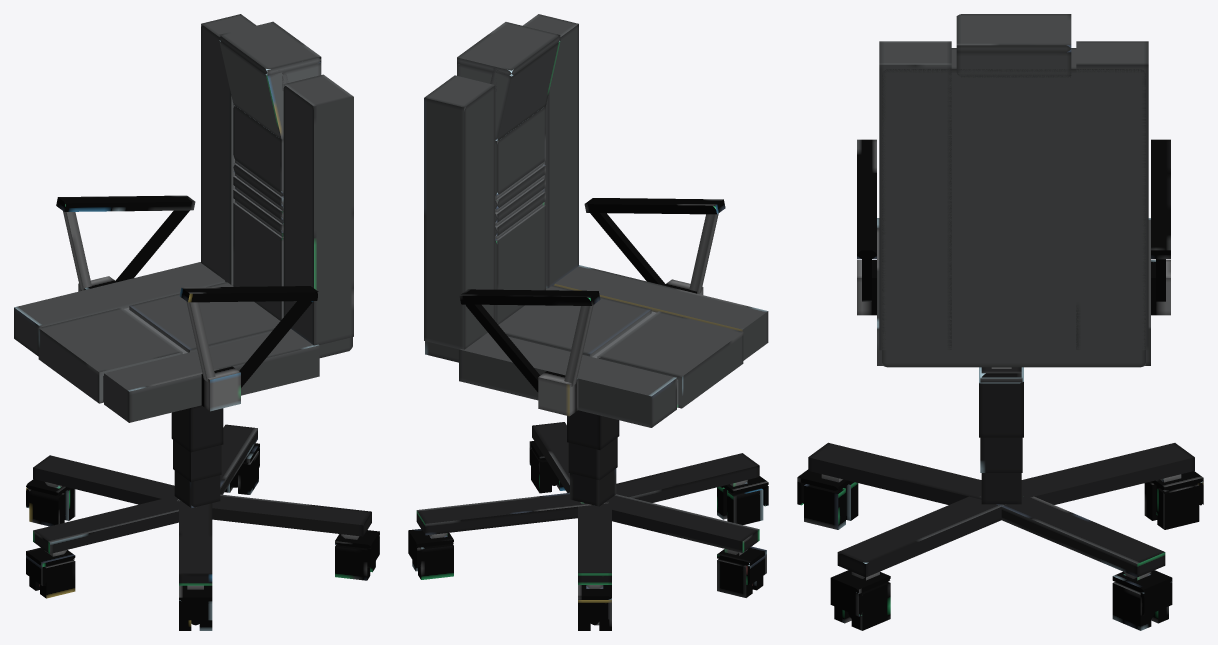
Rendered from stolicka.fbx.
The picture shows the model from 3 angles, left to right: view 1: azimuth 30°, elevation 25°; view 2: azimuth 150°, elevation 25°; view 3: azimuth 270°, elevation 25°; orthographic projection. The views are drawn at different scales.
Parts seen in each view (by area): view 1: cube_59, cube_7, cube_58, cube_4, cube_8, cube_6, cube_23, cube_20, cube_10, cube_22, cube_47, cube_46 (+24 smaller); view 2: cube_58, cube_8, cube_59, cube_4, cube_7, cube_6, cube_53, cube_20, cube_10, cube_21, cube_47, cube_46 (+24 smaller); view 3: cube_5, cube_59, cube_58, cube_53, cube_23, cube_22, cube_21, cube_46, cube_48, cube_43, cube_62, cube_67 (+13 smaller).
Boxes of the visible parts, x1,y1,x2,y2 form: cube_59: (283, 74, 353, 345); cube_7: (104, 329, 319, 422); cube_58: (201, 14, 256, 284); cube_4: (38, 307, 182, 403); cube_8: (14, 262, 225, 356); cube_6: (129, 282, 280, 352); cube_23: (212, 494, 371, 536); cube_20: (33, 499, 178, 553); cube_10: (233, 202, 283, 320); cube_22: (33, 455, 196, 507); cube_47: (219, 40, 288, 139); cube_46: (219, 21, 321, 75); cube_58: (424, 75, 495, 349); cube_8: (459, 333, 676, 427); cube_59: (523, 14, 578, 288); cube_4: (597, 311, 743, 408); cube_7: (554, 265, 768, 360); cube_6: (498, 285, 651, 356); cube_53: (416, 492, 608, 535); cube_20: (600, 494, 759, 552); cube_10: (495, 205, 545, 324); cube_21: (594, 453, 759, 505); cube_47: (490, 40, 560, 140); cube_46: (457, 22, 560, 75); cube_5: (882, 48, 1145, 367); cube_59: (879, 41, 951, 350); cube_58: (1076, 41, 1148, 350); cube_53: (979, 496, 1165, 577); cube_23: (837, 496, 1005, 577); cube_22: (1000, 443, 1194, 504); cube_21: (808, 442, 1002, 504); cube_46: (956, 14, 1071, 52); cube_48: (956, 52, 1071, 77); cube_43: (979, 367, 1023, 437); cube_62: (1151, 139, 1170, 259); cube_67: (857, 139, 876, 259).
Size of the model in its own units: 123 by 200 by 127.
Materials: 1 (1 with a texture image).
